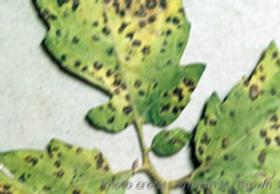Tomato leaf bacterial spot: (22, 0, 206, 137), (190, 31, 280, 192), (0, 135, 120, 193)
